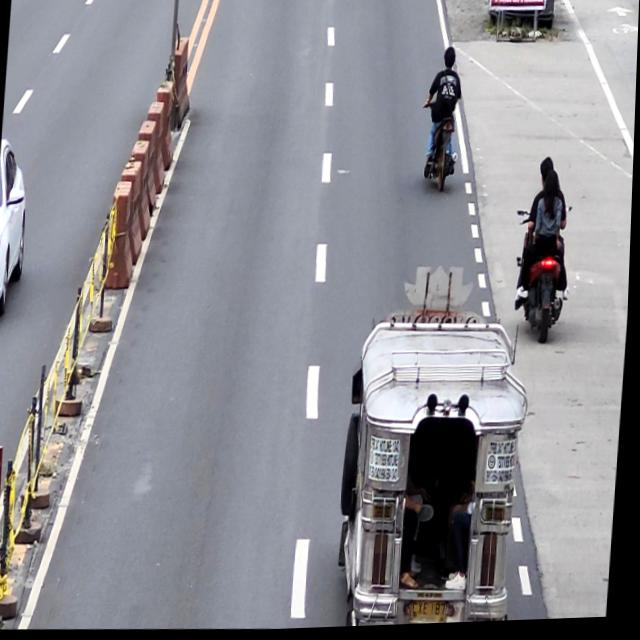Jeep: (334, 315, 536, 630)
License-Plate: (411, 599, 452, 627)
Motorcycle: (509, 206, 574, 346), (420, 98, 461, 199)
